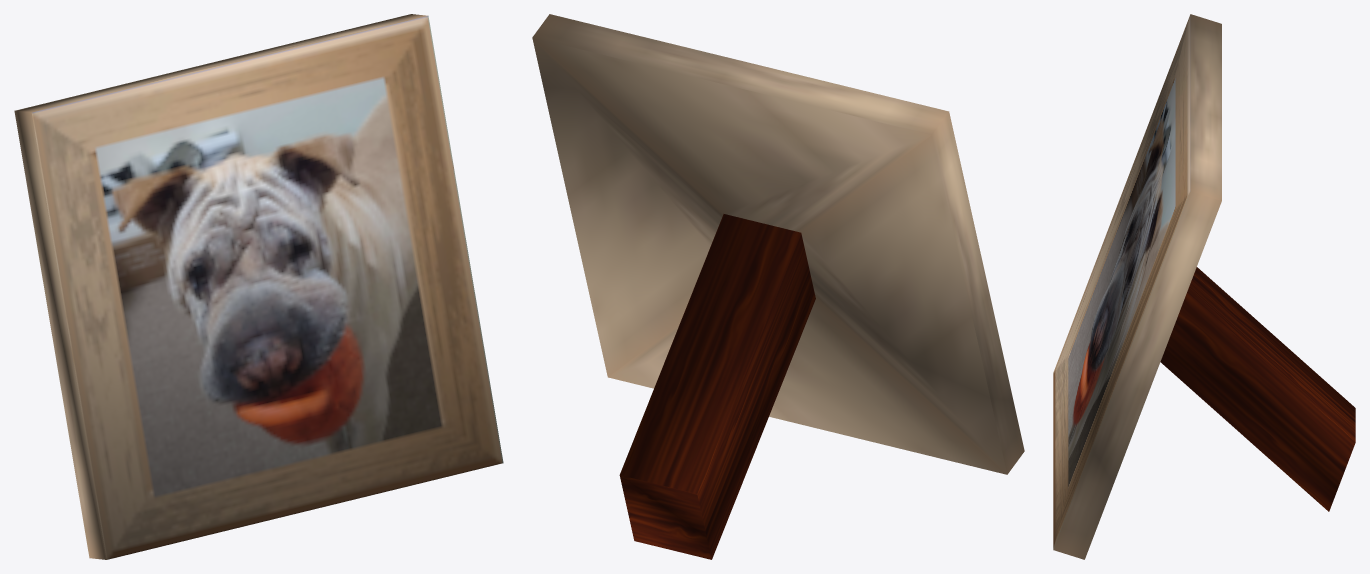
File: picture_frame.fbx
The picture shows the model from 3 angles, left to right: view 1: azimuth 30°, elevation 25°; view 2: azimuth 150°, elevation 25°; view 3: azimuth 270°, elevation 25°; orthographic projection. The views are drawn at different scales.
Visible parts, largest first — view 1: picture_frame; view 2: picture_frame; view 3: picture_frame.
Part boxes in pixels (x1,y1,x2,y2): picture_frame: [14, 14, 503, 559]; picture_frame: [532, 14, 1024, 559]; picture_frame: [1053, 14, 1355, 559].
Bounding box in the file's own units: 30 × 30.99 × 21.65.
1 material, 1 textured.
